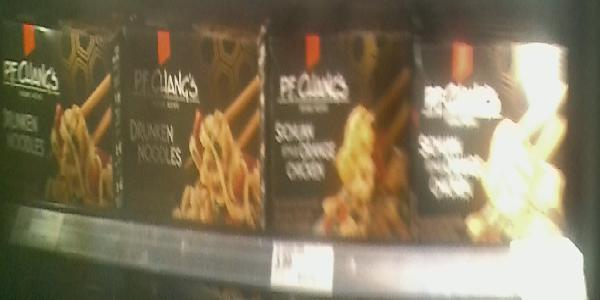pizza1: (412, 37, 573, 244), (266, 28, 412, 242), (123, 25, 265, 229), (1, 21, 123, 211)
